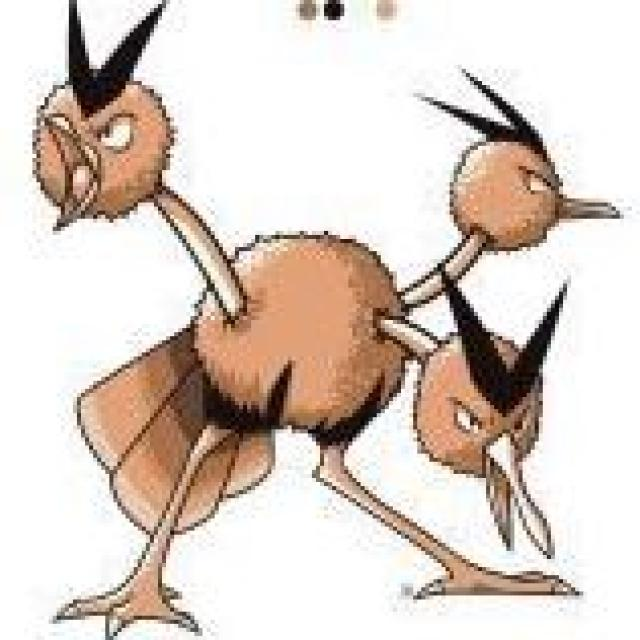Dodrio: (31, 63, 564, 595)
